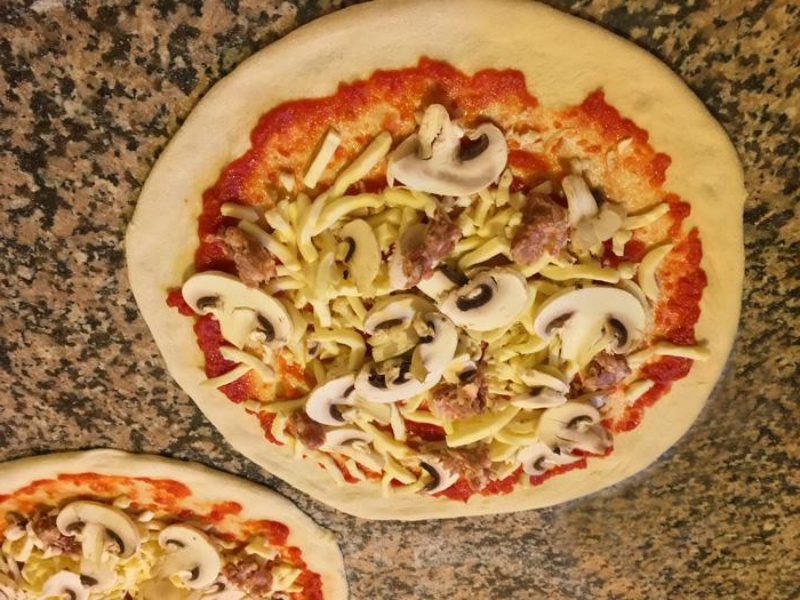champignon: (386, 102, 512, 198), (177, 267, 297, 361), (534, 280, 649, 369), (433, 265, 538, 334), (54, 496, 147, 572), (526, 399, 623, 463), (155, 522, 222, 594)
